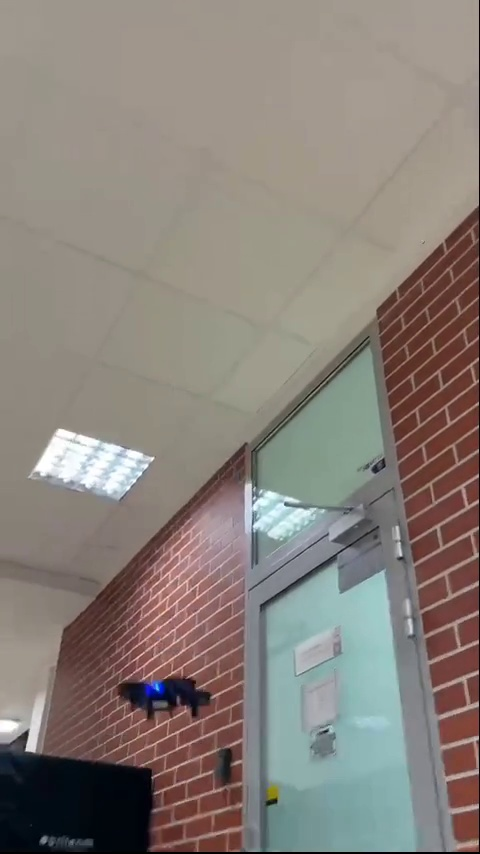drone: (117, 670, 212, 722)
